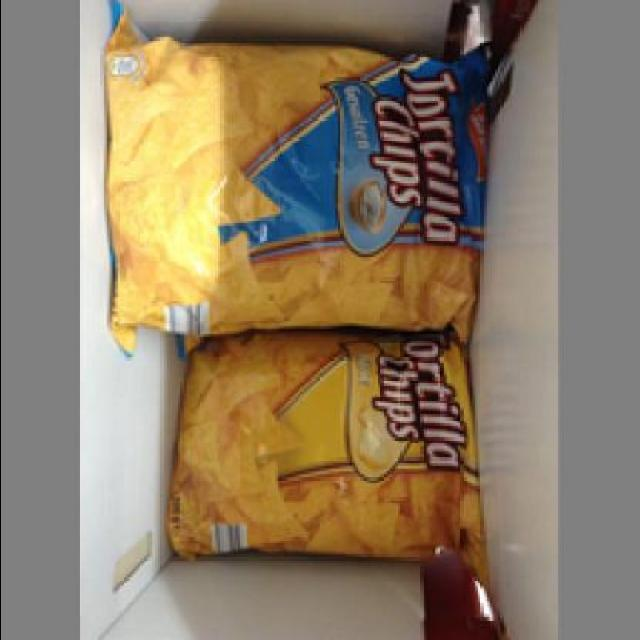Chips: (108, 37, 492, 334), (170, 336, 487, 572)
